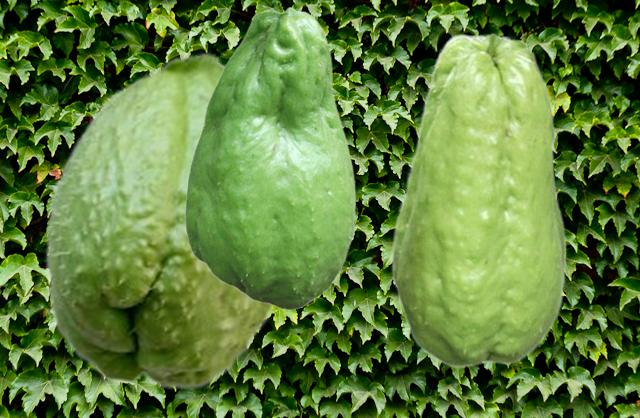sayote: (44, 50, 276, 390), (390, 32, 567, 368), (184, 6, 355, 309)
